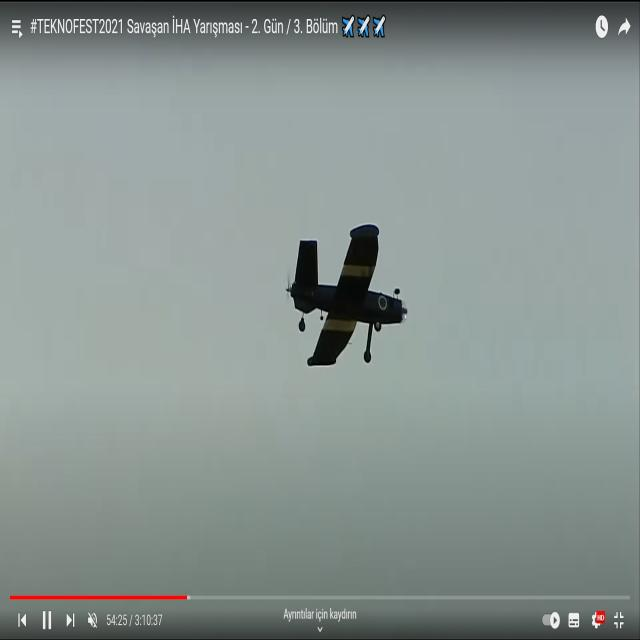iha: (317, 224, 377, 369)
